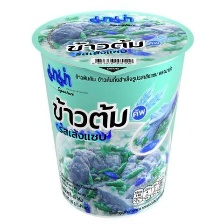paper_cup: (26, 4, 197, 221)
